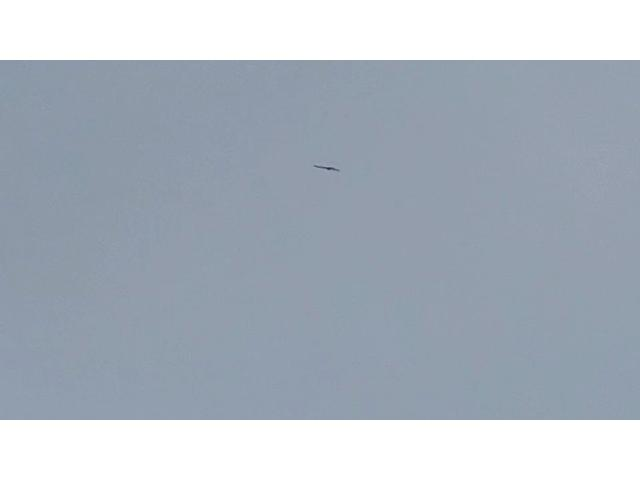Anti-Drone: (312, 160, 340, 172)
